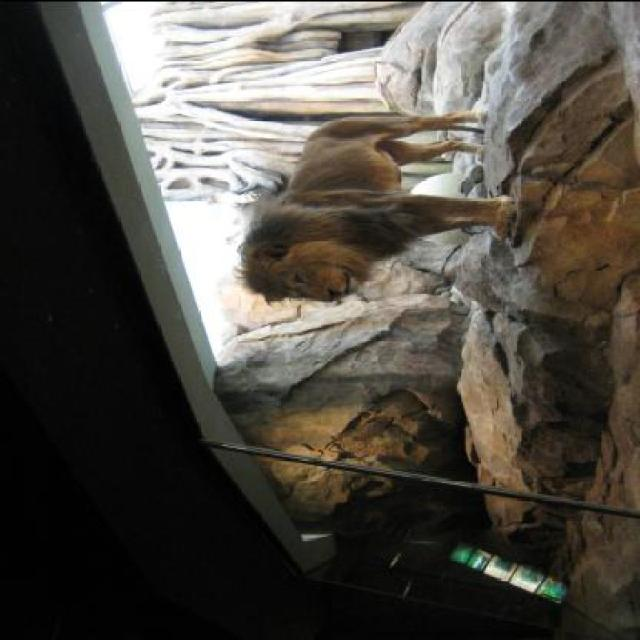Lion: (225, 100, 532, 322)
